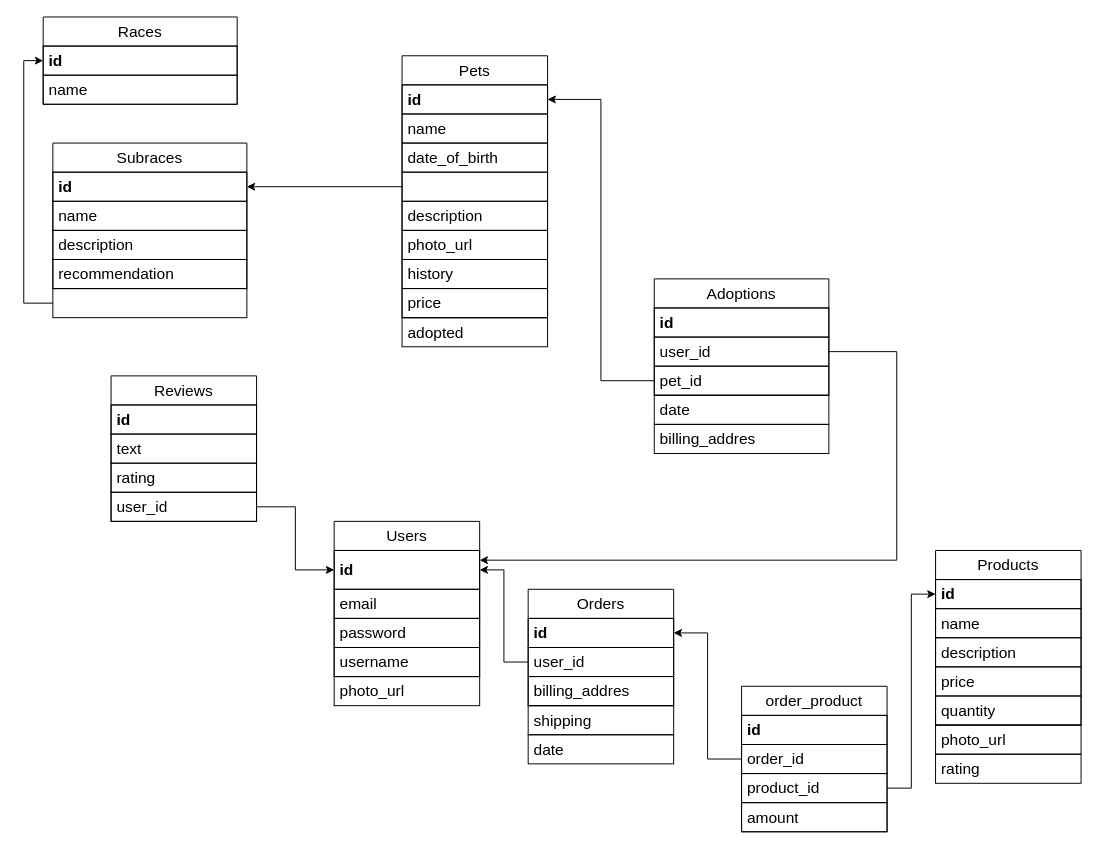
This 1098x849 diagram has some shape labels left out. The shapes that lost their labels are listed below. From the top down, each one's centre as x and y in pixels, then its label:
At (x=474, y=186): "subrace_id".
At (x=149, y=303): "race_id".
